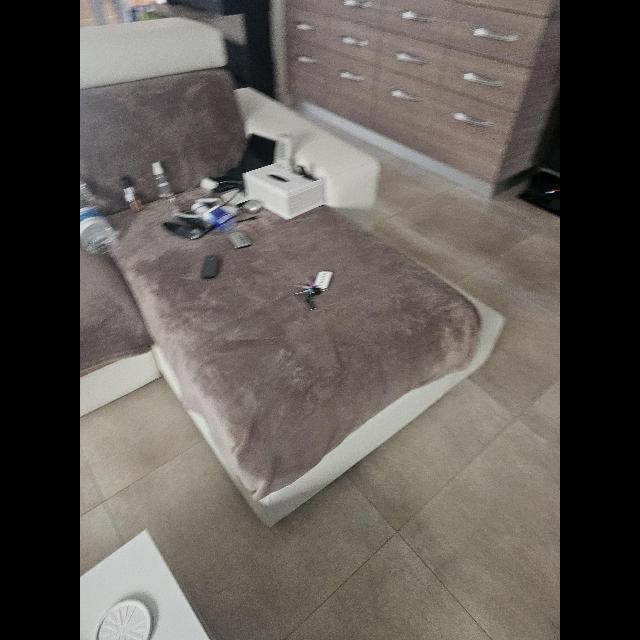Keys: (294, 272, 334, 312)
